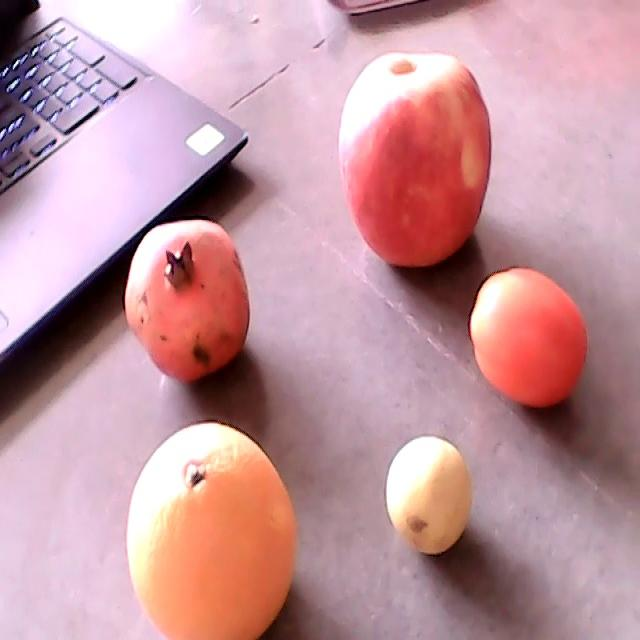apple: (338, 50, 491, 268)
lemon: (387, 434, 474, 554)
orange: (127, 415, 298, 639)
pomegranate: (124, 221, 250, 384)
tomato: (471, 266, 589, 408)
